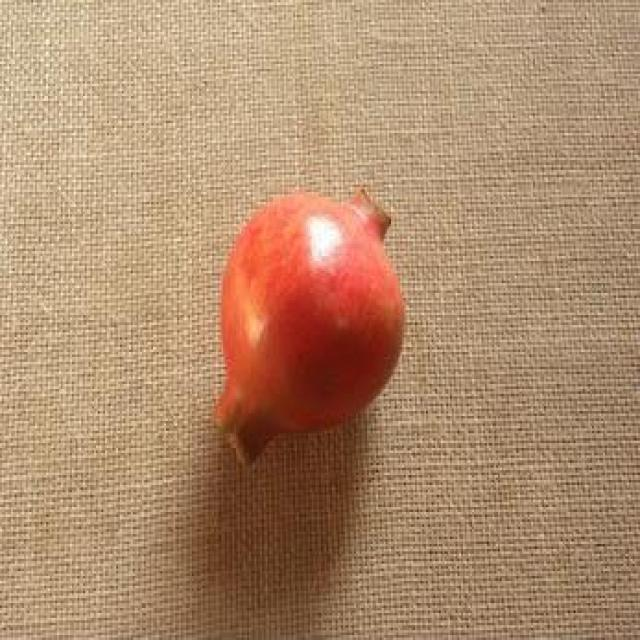Pomegranate: (209, 178, 407, 477)
